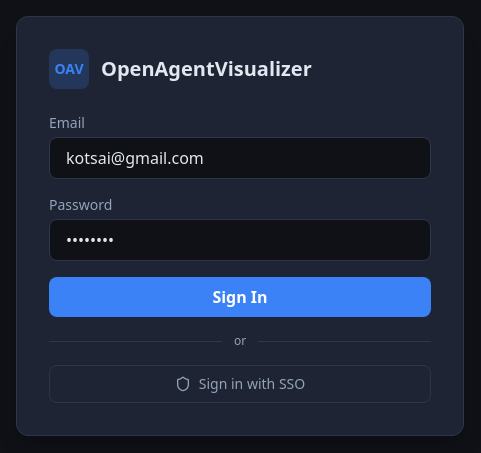
LoginPage › shows workspace slug input after clicking SSO button
This screenshot has width=481, height=453.
What coordinates should you click on to do the following:
click the button "Sign in with SSO"
I would click on:
 (240, 384)
Its box is [49,365,431,403].
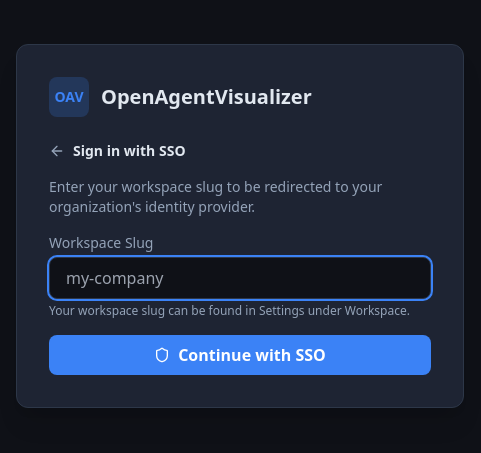
Result: the field labelled "Workspace Slug" is shown at [49,257,431,299]
Result: the button "Continue with SSO" is shown at [49,335,431,375]
